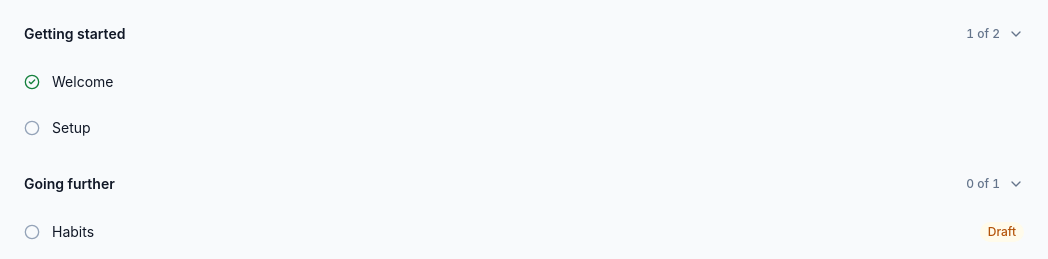
Test: CourseOutline › collapses modules through their header
Click the button "Getting started 1 of 2".
click(75, 34)  # box [12, 12, 1036, 56]
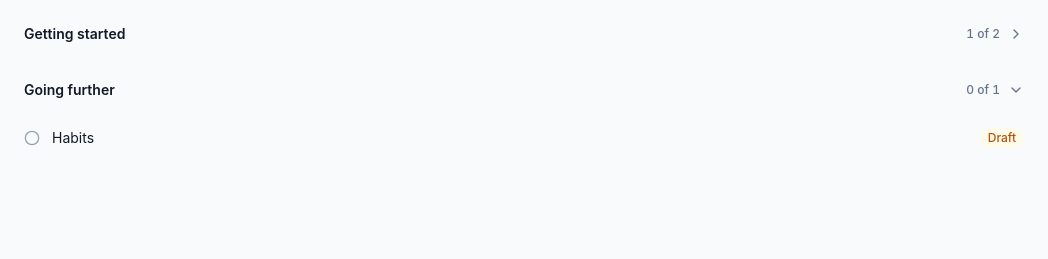
Expected: the button "Getting started 1 of 2" is collapsed, [12, 12, 1036, 56]
Expected: the link "Setup" is gone
